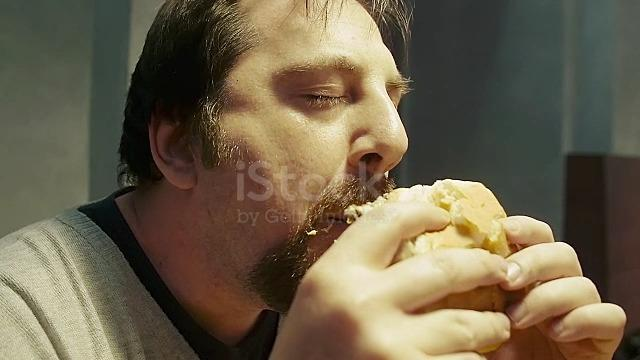Eating: (119, 0, 600, 360)
